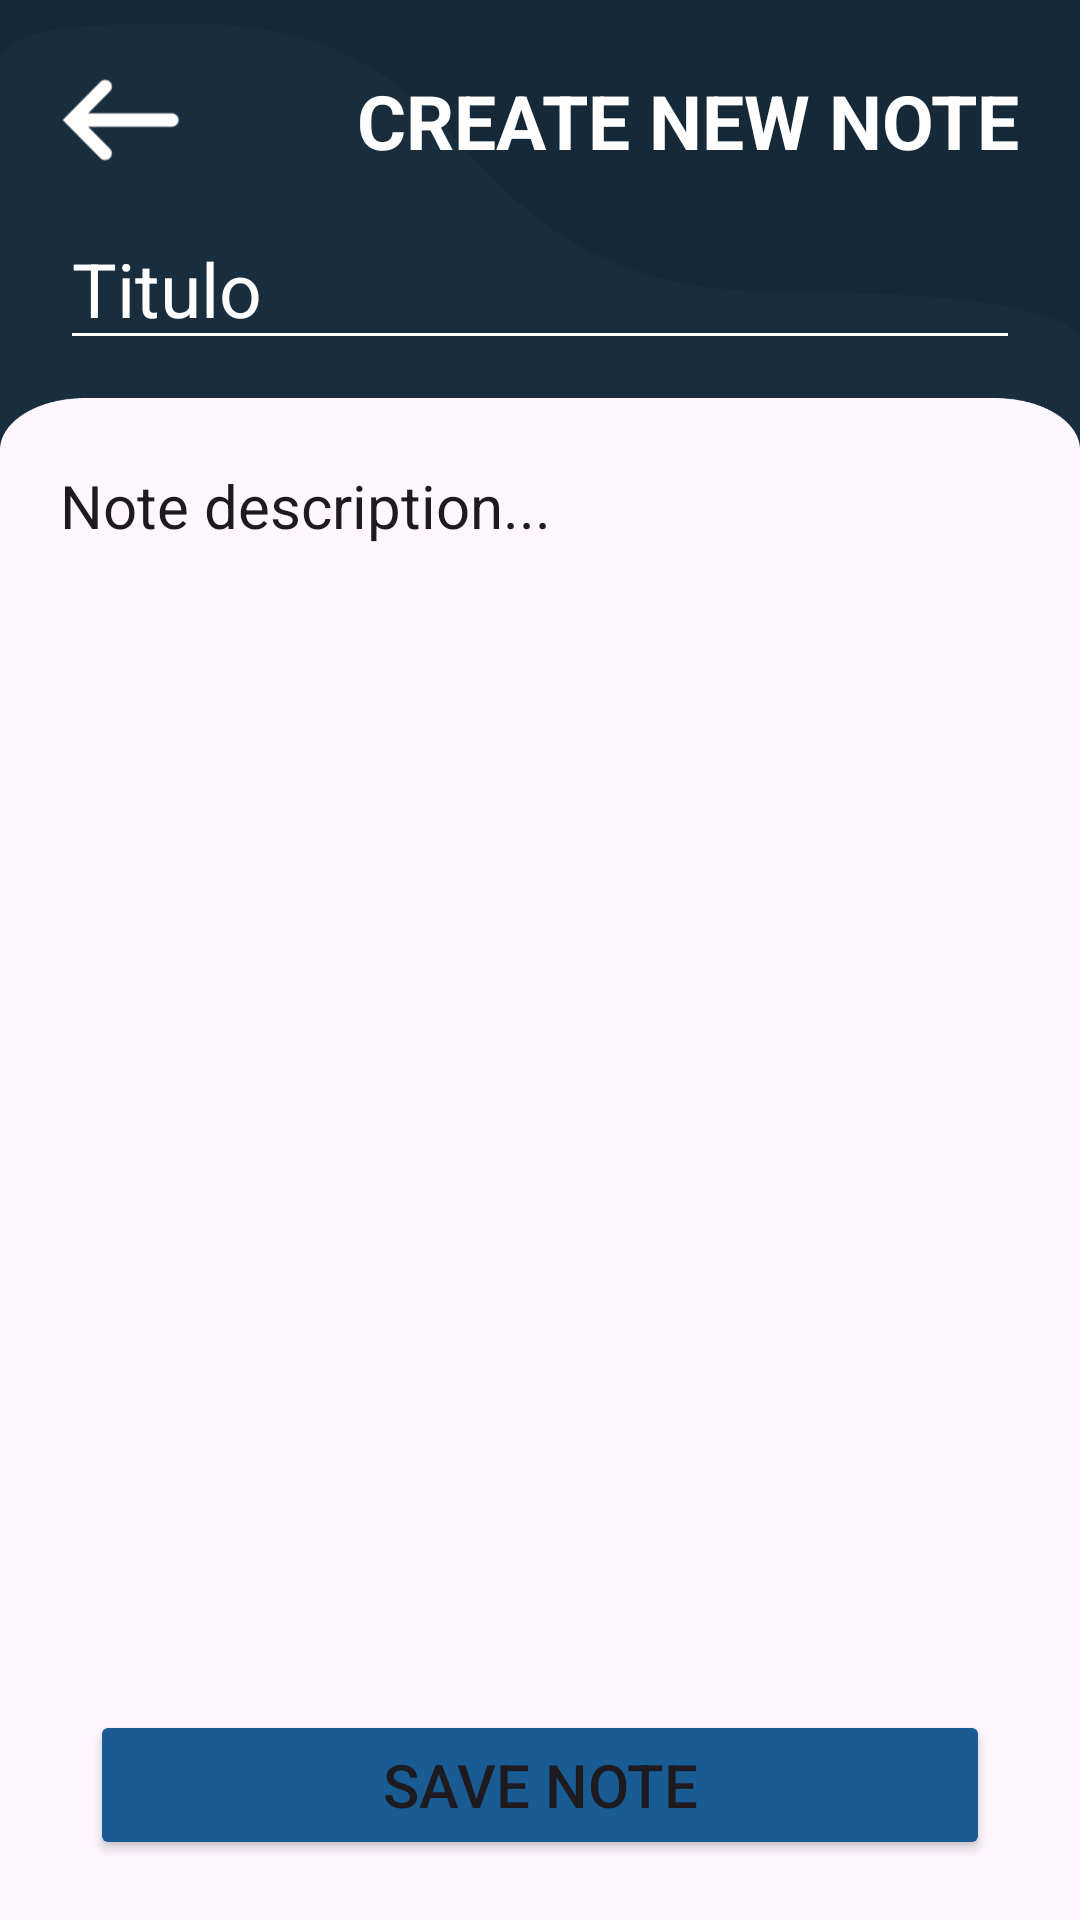

Icons on this 1080px×1920px Android screen, each with its box as (x1, y1, x2, y2):
left: (62, 79, 179, 161)
